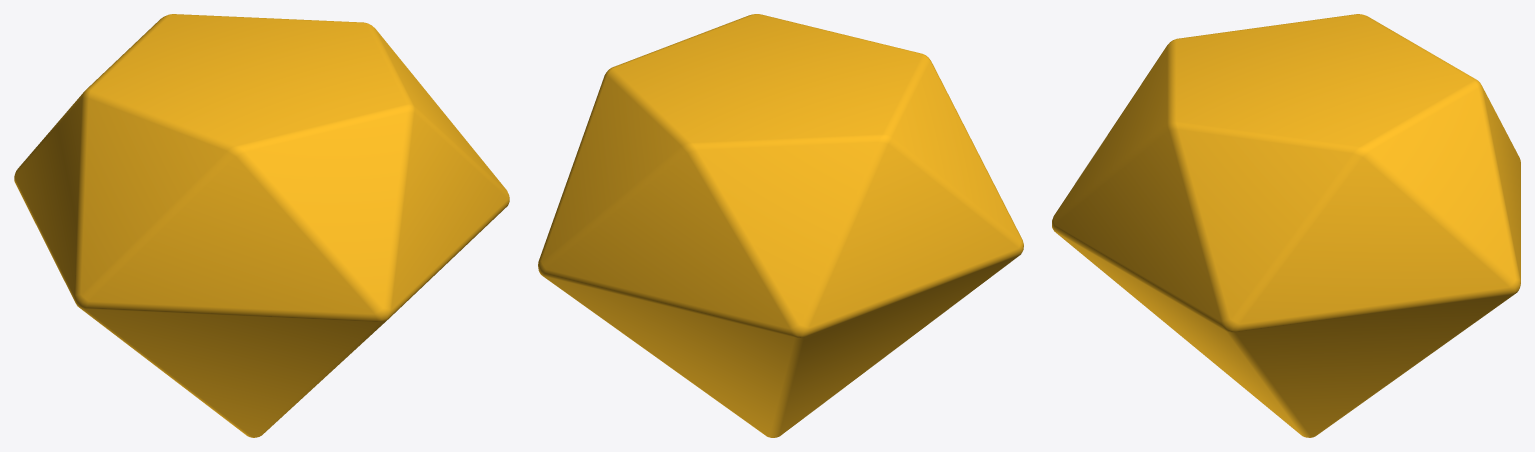
File: diamond_teamYellow.glb
3 renders of one model, left to right at view 1: azimuth 30°, elevation 25°; view 2: azimuth 150°, elevation 25°; view 3: azimuth 270°, elevation 25°, orthographic.
Visible parts, largest first — view 1: diamond_teamYellow; view 2: diamond_teamYellow; view 3: diamond_teamYellow.
Boxes of the visible parts, x1,y1,x2,y2 form: diamond_teamYellow: [14, 14, 509, 437]; diamond_teamYellow: [538, 14, 1023, 437]; diamond_teamYellow: [1052, 14, 1520, 437].
Bounding box in the file's own units: 0.3968 × 0.317 × 0.3785.
